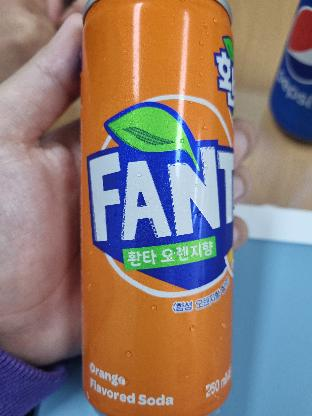Can: (69, 0, 254, 416)
